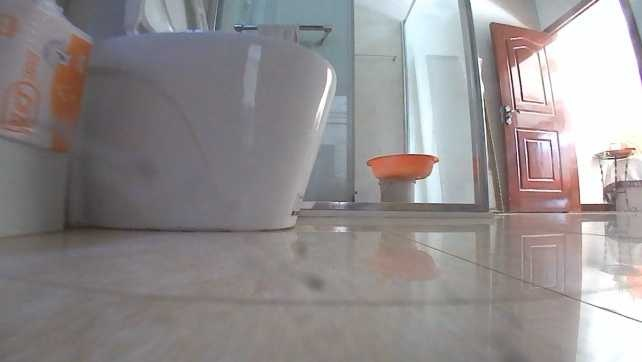toilet: (67, 1, 338, 231)
